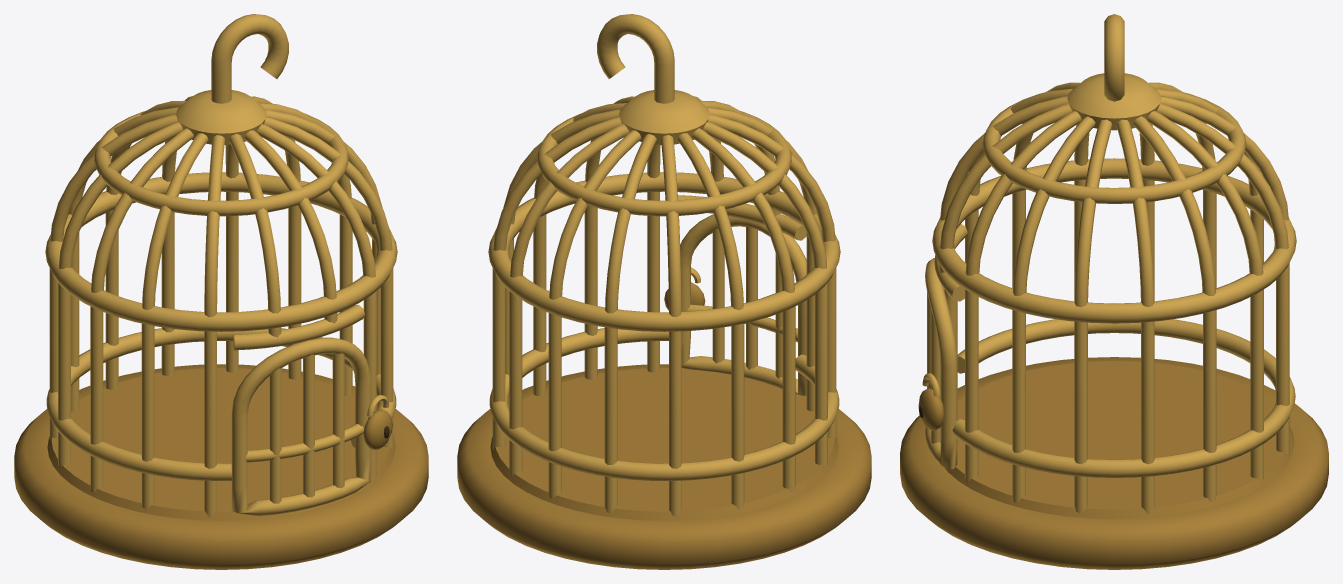
Rendered from goose_cage.glb.
3 renders of one model, left to right at view 1: azimuth 30°, elevation 25°; view 2: azimuth 150°, elevation 25°; view 3: azimuth 270°, elevation 25°, orthographic. The views are drawn at different scales.
Visible parts, largest first — view 1: CageBody, CageDoor; view 2: CageBody, CageDoor; view 3: CageBody, CageDoor.
Boxes of the visible parts, left/top/right/bottom form: CageBody: left=14, top=14, right=428, bottom=569; CageDoor: left=231, top=337, right=392, bottom=516; CageBody: left=457, top=14, right=871, bottom=569; CageDoor: left=664, top=214, right=806, bottom=395; CageBody: left=900, top=14, right=1328, bottom=569; CageDoor: left=918, top=258, right=957, bottom=469.
Size of the model in its own units: 2.02 by 2.5 by 2.02.
